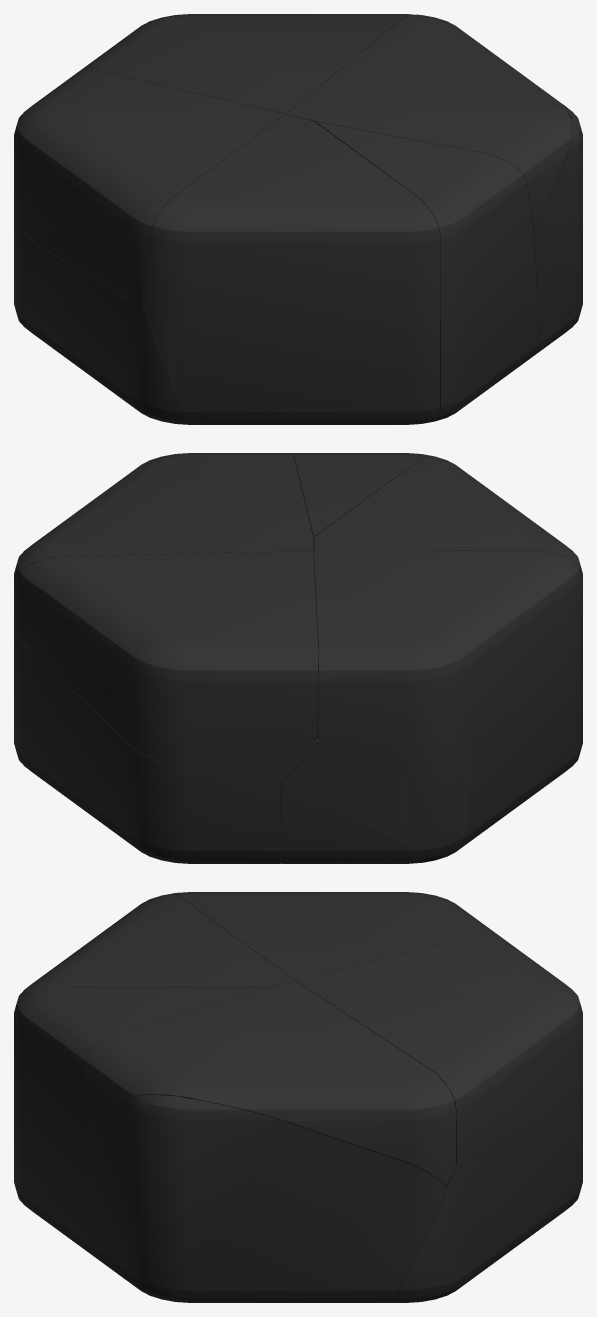
The model's file is broken shelf.fbx.
3 renders of one model, top to bottom at view 1: azimuth 30°, elevation 25°; view 2: azimuth 150°, elevation 25°; view 3: azimuth 270°, elevation 25°, orthographic.
Visible parts, largest first — view 1: Cylinder.036_cell.002, Cylinder.036_cell.005, Cylinder.036_cell.003, Cylinder.036_cell, Cylinder.036_cell.009, Cylinder.036_cell.001, Cylinder.036_cell.007, Cylinder.036_cell.004; view 2: Cylinder.036_cell.009, Cylinder.036_cell.005, Cylinder.036_cell.008, Cylinder.036_cell, Cylinder.036_cell.002, Cylinder.036_cell.006, Cylinder.036_cell.001, Cylinder.036_cell.004, Cylinder.036_cell.003; view 3: Cylinder.036_cell.007, Cylinder.036_cell, Cylinder.036_cell.009, Cylinder.036_cell.003, Cylinder.036_cell.008, Cylinder.036_cell.005, Cylinder.036_cell.002.
Boxes of the visible parts, x1=… form: Cylinder.036_cell.002: x1=143, y1=114, x2=440, y2=424; Cylinder.036_cell.005: x1=14, y1=71, x2=285, y2=307; Cylinder.036_cell.003: x1=315, y1=121, x2=539, y2=421; Cylinder.036_cell: x1=286, y1=14, x2=571, y2=232; Cylinder.036_cell.009: x1=77, y1=14, x2=414, y2=114; Cylinder.036_cell.001: x1=20, y1=244, x2=201, y2=424; Cylinder.036_cell.007: x1=534, y1=104, x2=582, y2=355; Cylinder.036_cell.004: x1=14, y1=215, x2=36, y2=323; Cylinder.036_cell.009: x1=17, y1=551, x2=318, y2=780; Cylinder.036_cell.005: x1=313, y1=551, x2=581, y2=760; Cylinder.036_cell.008: x1=14, y1=636, x2=281, y2=863; Cylinder.036_cell: x1=14, y1=453, x2=313, y2=647; Cylinder.036_cell.002: x1=313, y1=456, x2=582, y2=677; Cylinder.036_cell.006: x1=281, y1=741, x2=422, y2=863; Cylinder.036_cell.001: x1=447, y1=654, x2=582, y2=856; Cylinder.036_cell.004: x1=377, y1=742, x2=479, y2=862; Cylinder.036_cell.003: x1=290, y1=453, x2=434, y2=541; Cylinder.036_cell.007: x1=91, y1=1094, x2=446, y2=1302; Cylinder.036_cell: x1=84, y1=981, x2=456, y2=1186; Cylinder.036_cell.009: x1=296, y1=934, x2=582, y2=1164; Cylinder.036_cell.003: x1=14, y1=987, x2=265, y2=1264; Cylinder.036_cell.008: x1=381, y1=1096, x2=582, y2=1302; Cylinder.036_cell.005: x1=168, y1=892, x2=499, y2=980; Cylinder.036_cell.002: x1=15, y1=894, x2=294, y2=1007.
Bounding box in the file's own units: 174 × 80.57 × 194.
1 material, 1 textured.
